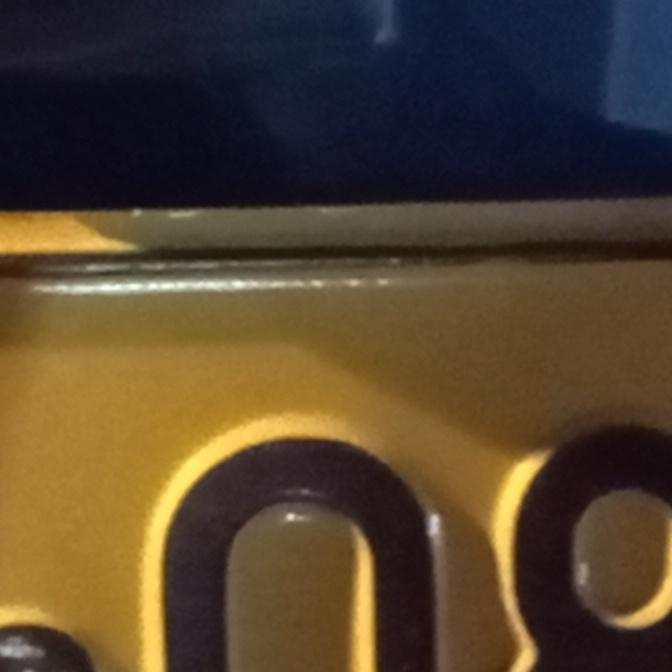plates: (0, 197, 672, 672)
